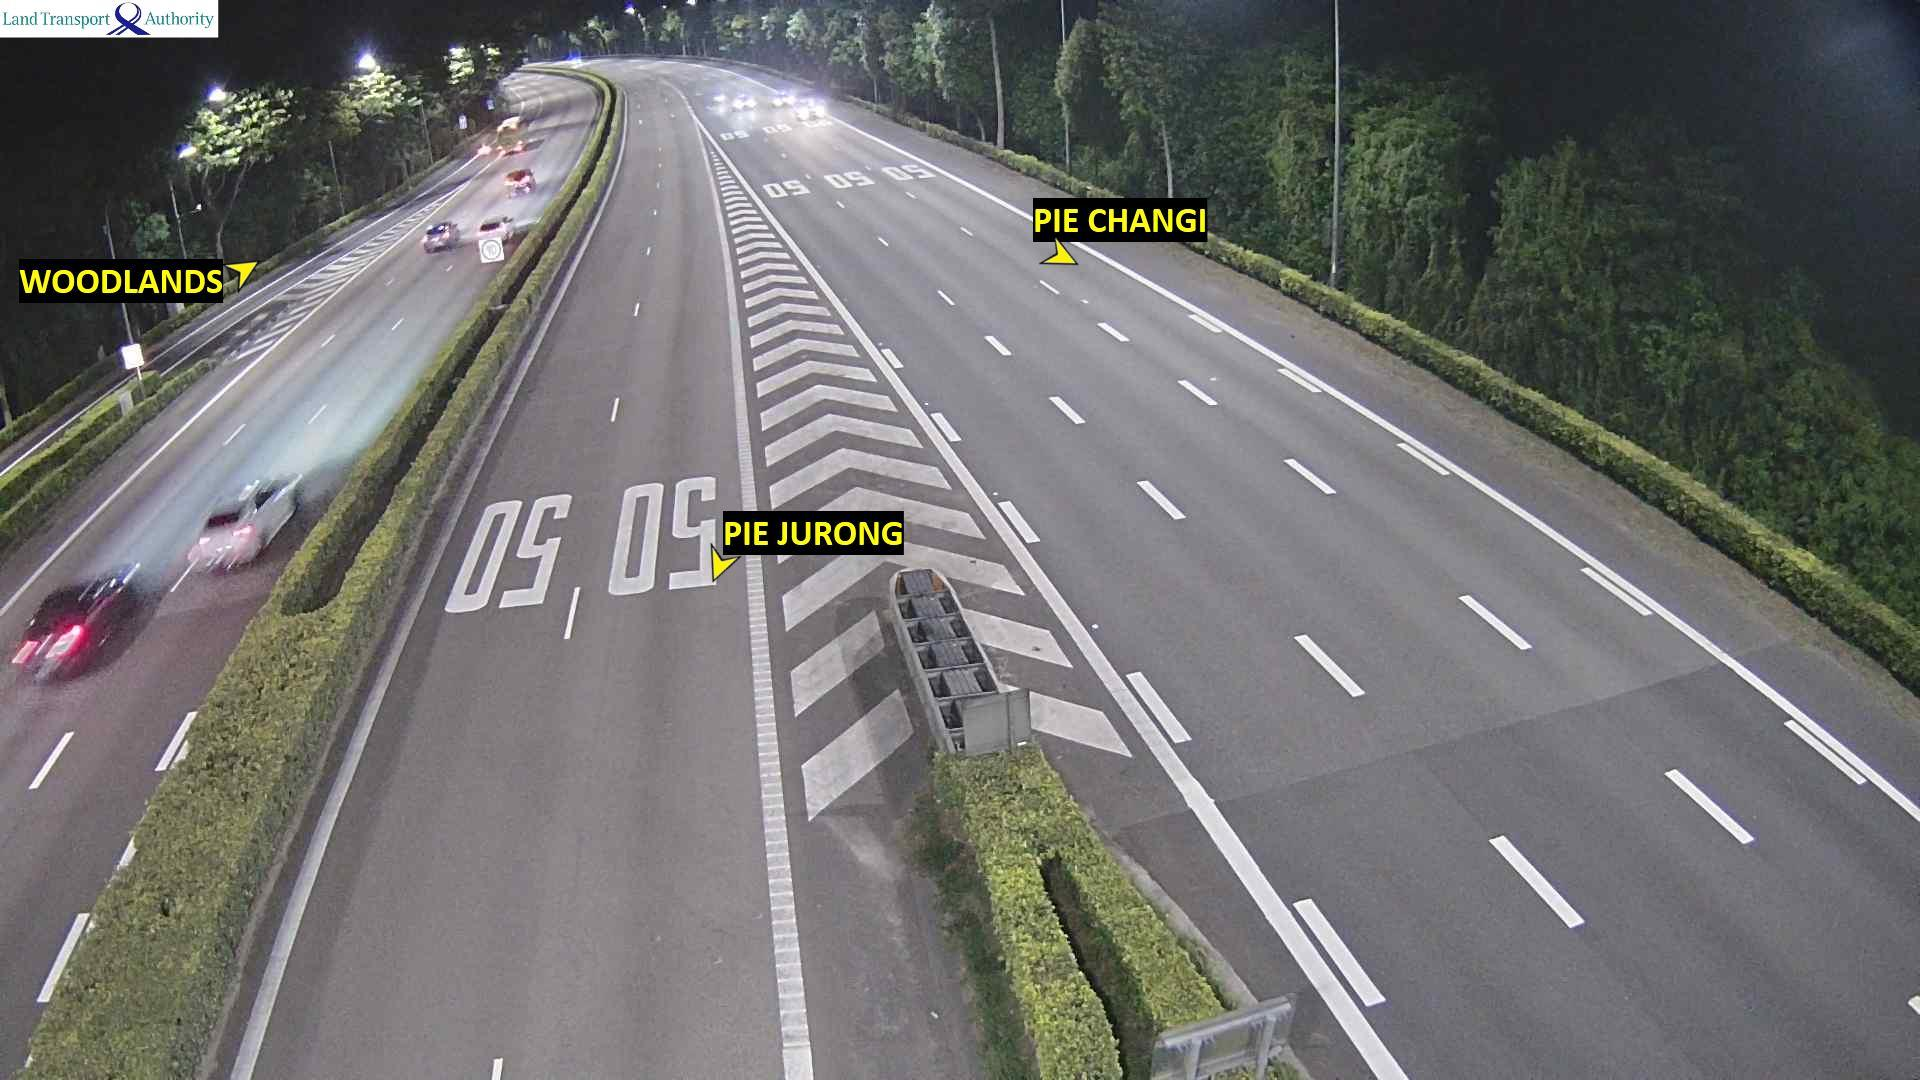cars: (9, 560, 140, 685), (185, 469, 303, 574), (421, 220, 460, 253), (478, 214, 515, 243), (791, 92, 825, 121), (504, 166, 535, 196), (730, 91, 756, 114), (496, 114, 527, 133), (706, 91, 727, 113), (768, 87, 791, 107), (504, 137, 526, 154), (475, 141, 491, 157)
